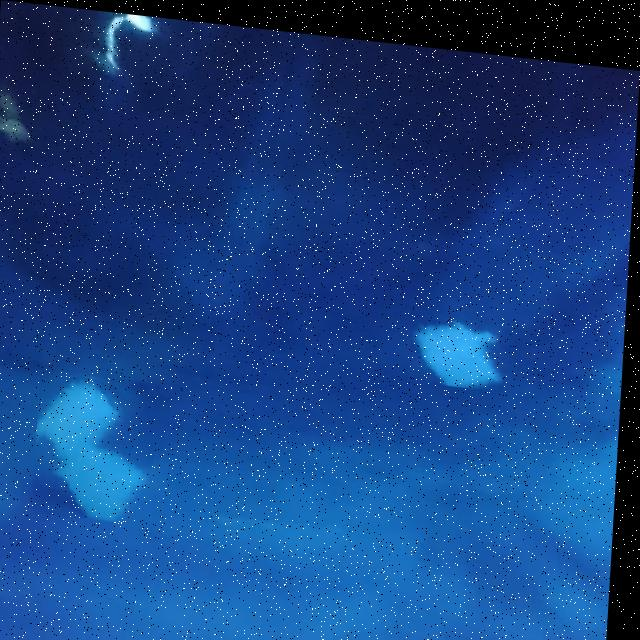thermocoal: (37, 367, 172, 523), (411, 290, 530, 381)
